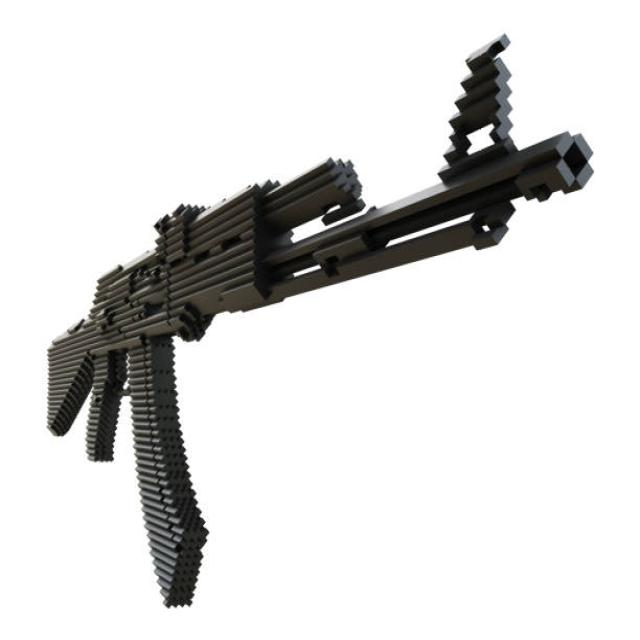rifle: (39, 12, 600, 620)
